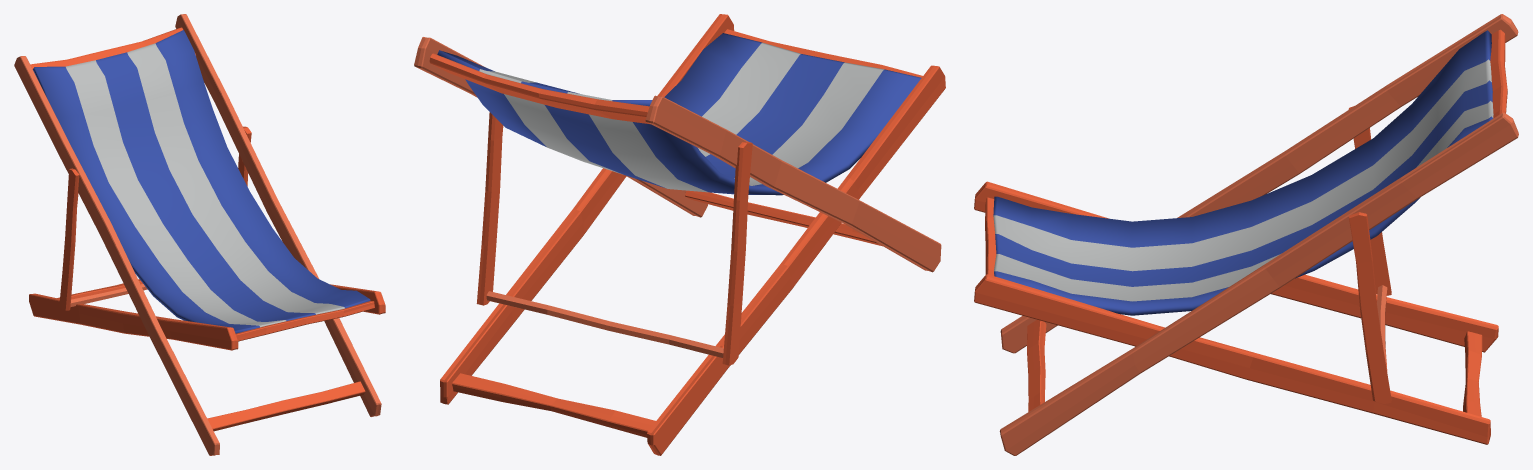
Rendered from Beach_Chair.fbx.
The picture shows the model from 3 angles, left to right: view 1: azimuth 30°, elevation 25°; view 2: azimuth 150°, elevation 25°; view 3: azimuth 270°, elevation 25°; orthographic projection. The views are drawn at different scales.
Visible parts, largest first — view 1: Plane; view 2: Plane; view 3: Plane.
Part boxes in pixels (<box>): Plane: <box>14,14,385,455</box>; Plane: <box>414,14,945,455</box>; Plane: <box>974,14,1518,455</box>.
Size of the model in its own units: 54.78 by 78.45 by 114.
